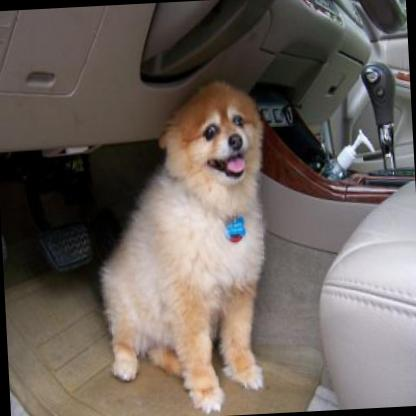Pomeranian: (89, 73, 302, 416)
